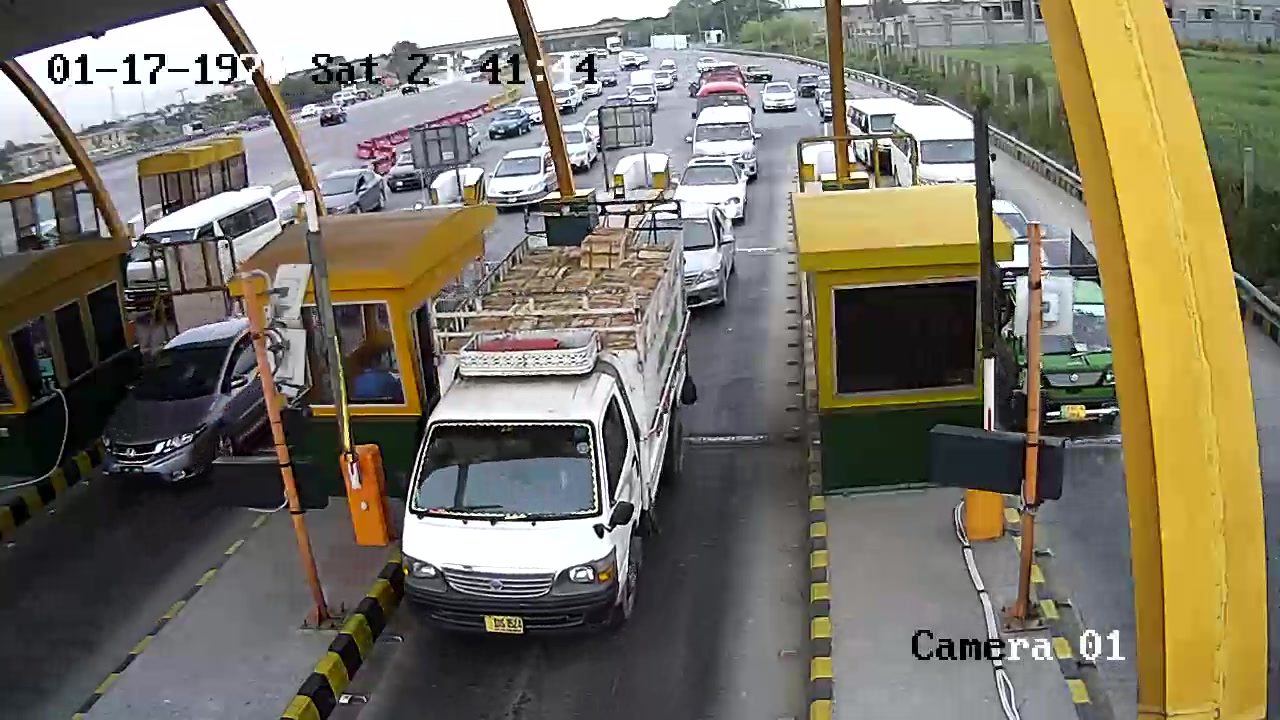F3: (400, 197, 685, 650)
